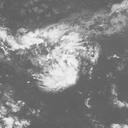cyclone: (35, 51, 79, 93)
